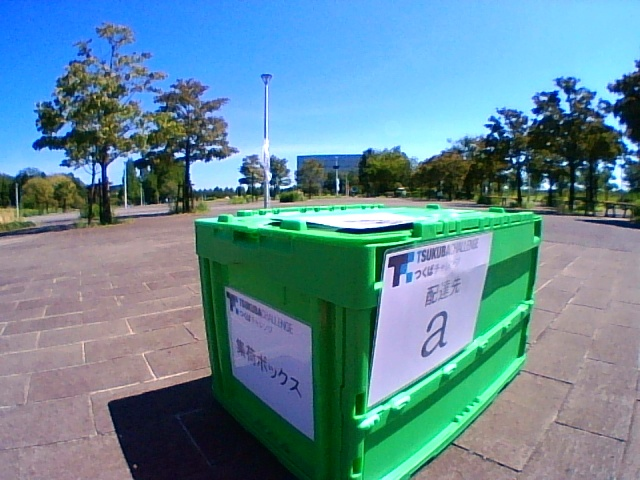green_box: (195, 203, 495, 397)
tag_a: (408, 297, 450, 358)
